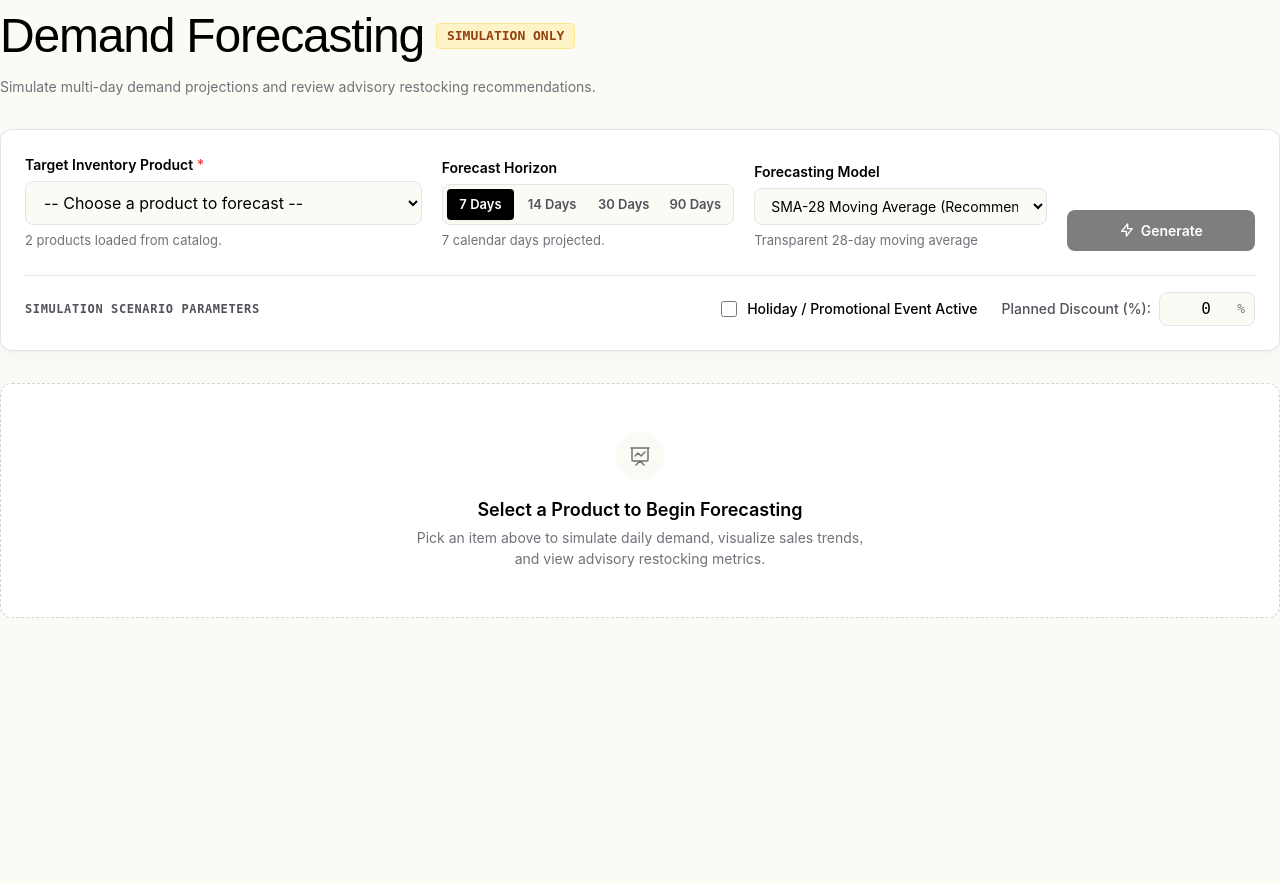
Test: ForecastingPage Component › renders stockout warning banner when historical stockouts occurred
Select "Wireless Mouse (SKU-WM-001) · Stock: 15" in the dropdown labelled "Target Inventory Product *": (223, 203) [25,181,422,225]
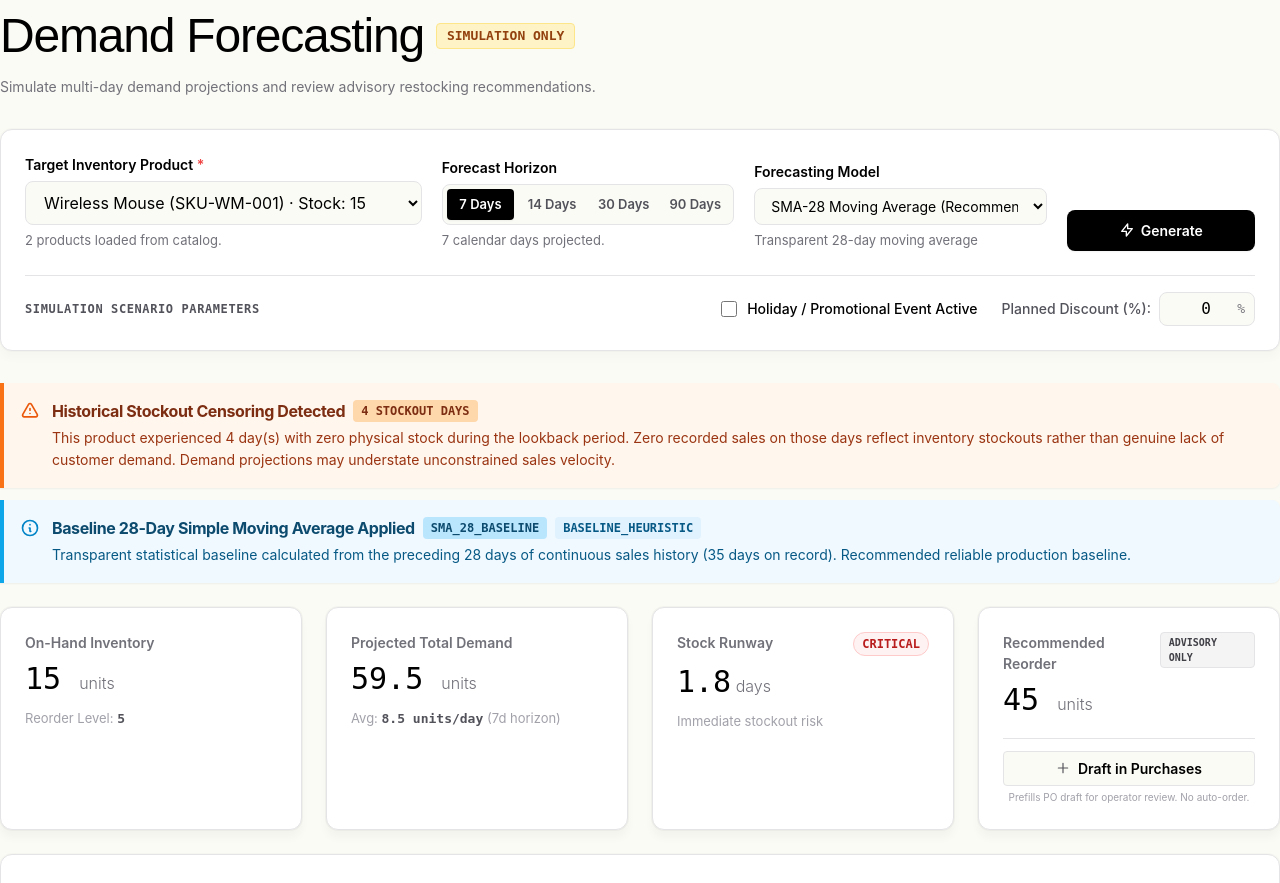
Expected: the message with test id "stockout-warning-banner" is shown, [0,382,1279,488]
Expected: the heading "Historical Stockout Censoring Detected" is shown, [52,398,345,422]
Expected: the text "4 STOCKOUT DAYS" is shown, [353,400,478,422]
